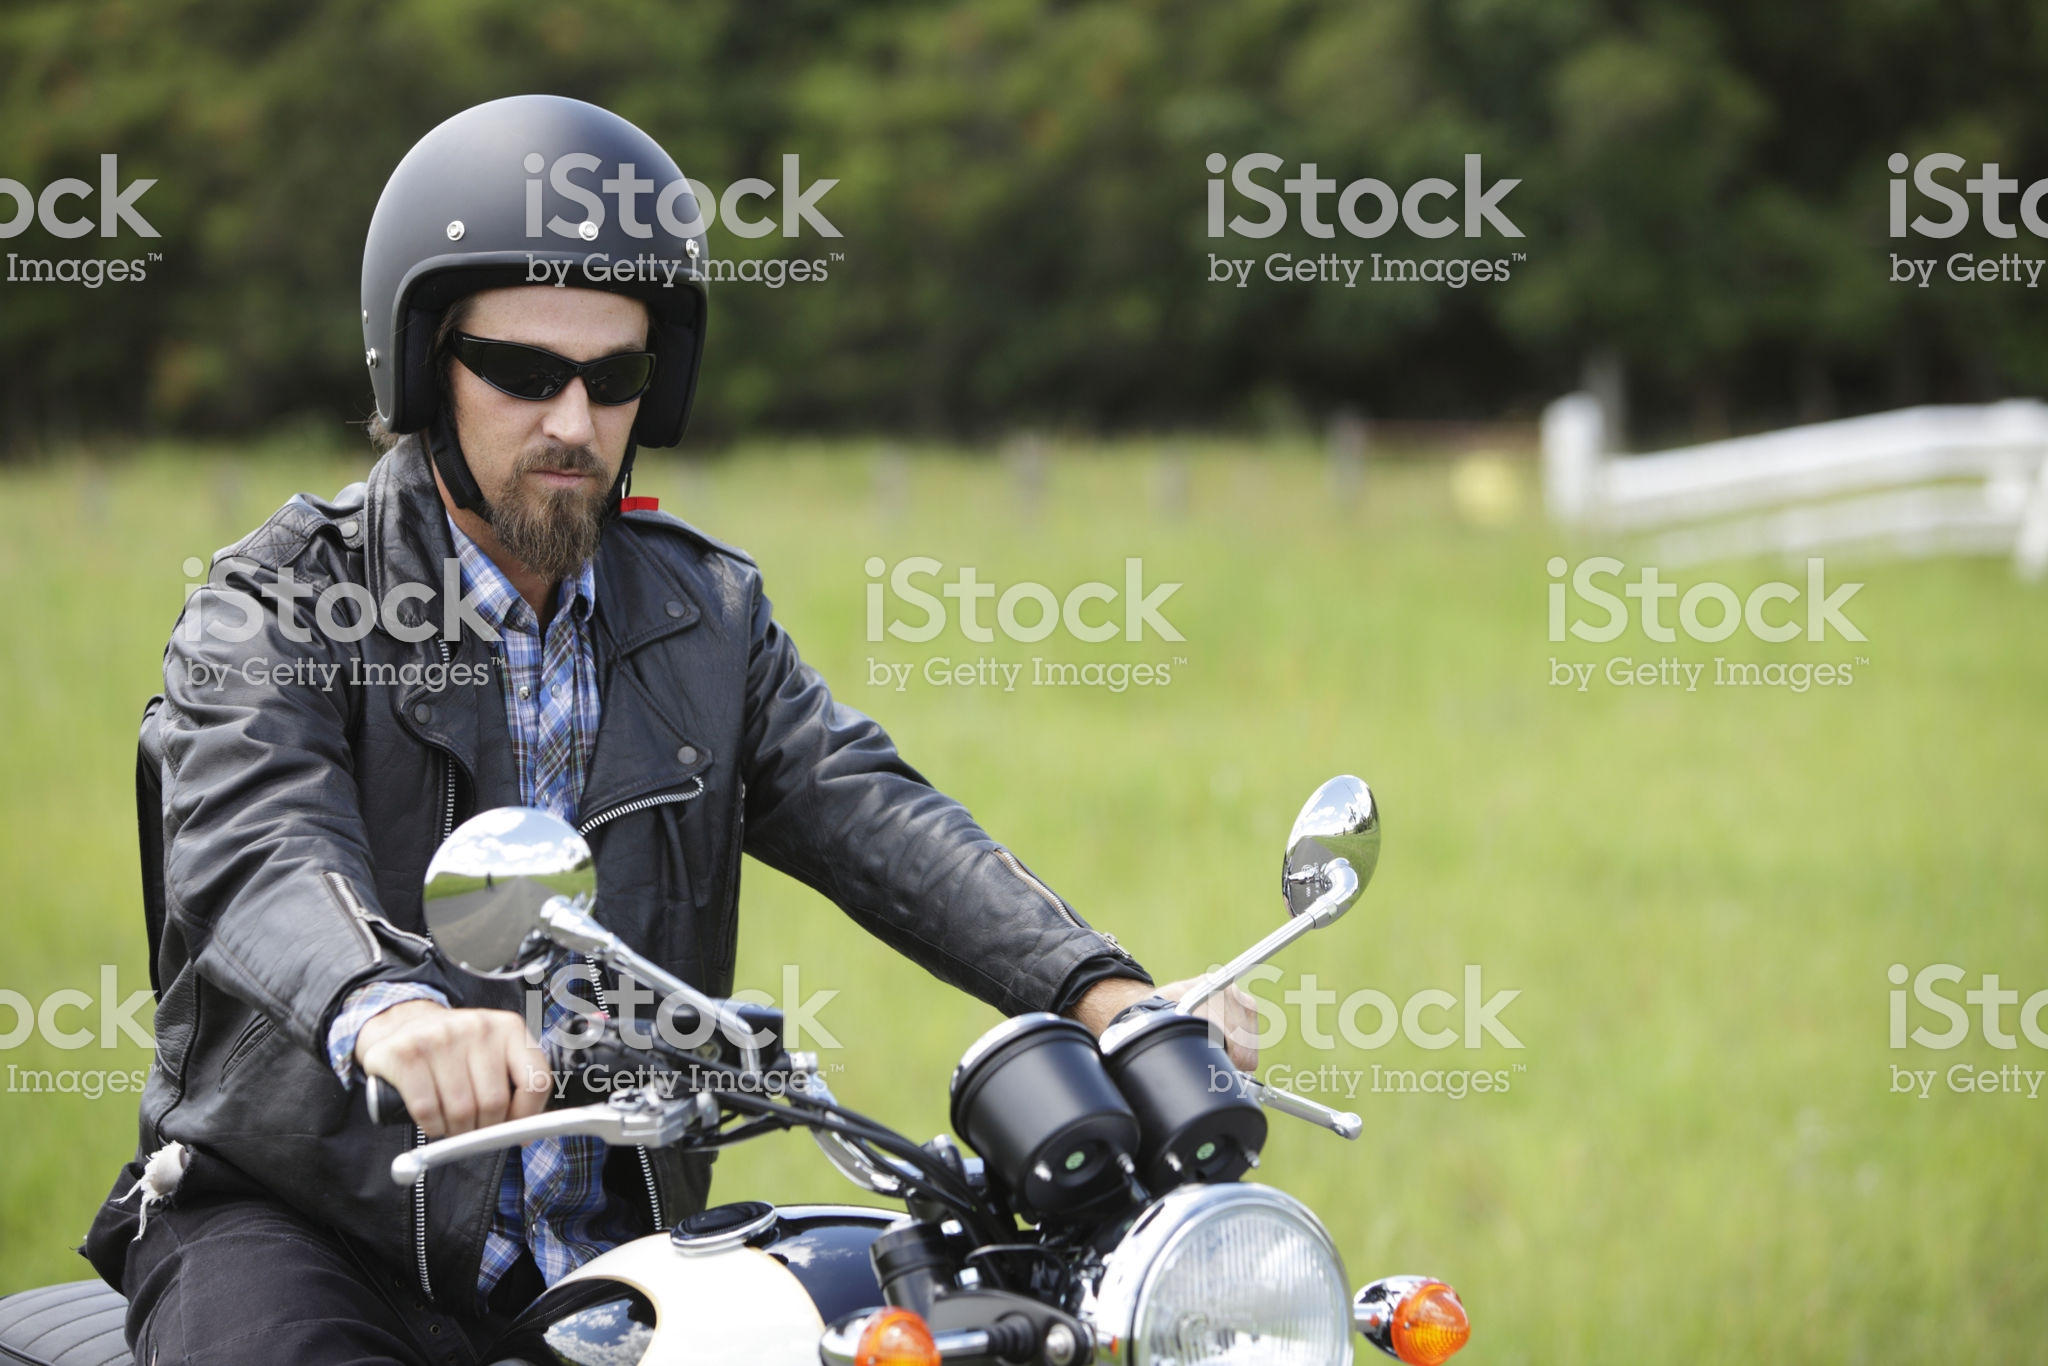helmet: (318, 113, 742, 412)
